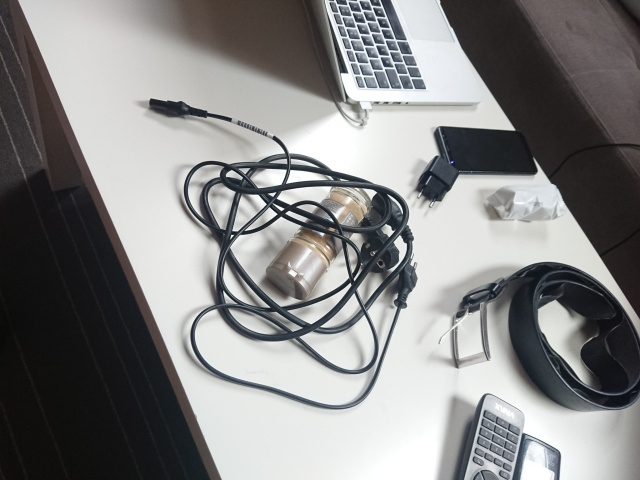Kotanyi Garlic Granules 70g: (263, 182, 375, 302)
